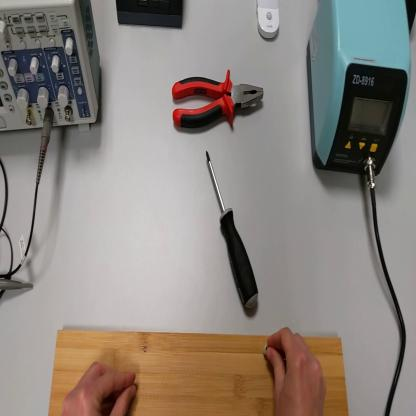hand: (265, 328, 326, 415), (61, 356, 139, 415)
oscilloscope: (2, 4, 102, 140)
oscilloscope probe tip: (2, 277, 36, 289)
pliers: (170, 64, 264, 134)
screwdriver-: (208, 149, 260, 314)
socket: (408, 4, 416, 34)
welder station: (306, 1, 412, 176)
working area: (48, 330, 348, 416)
